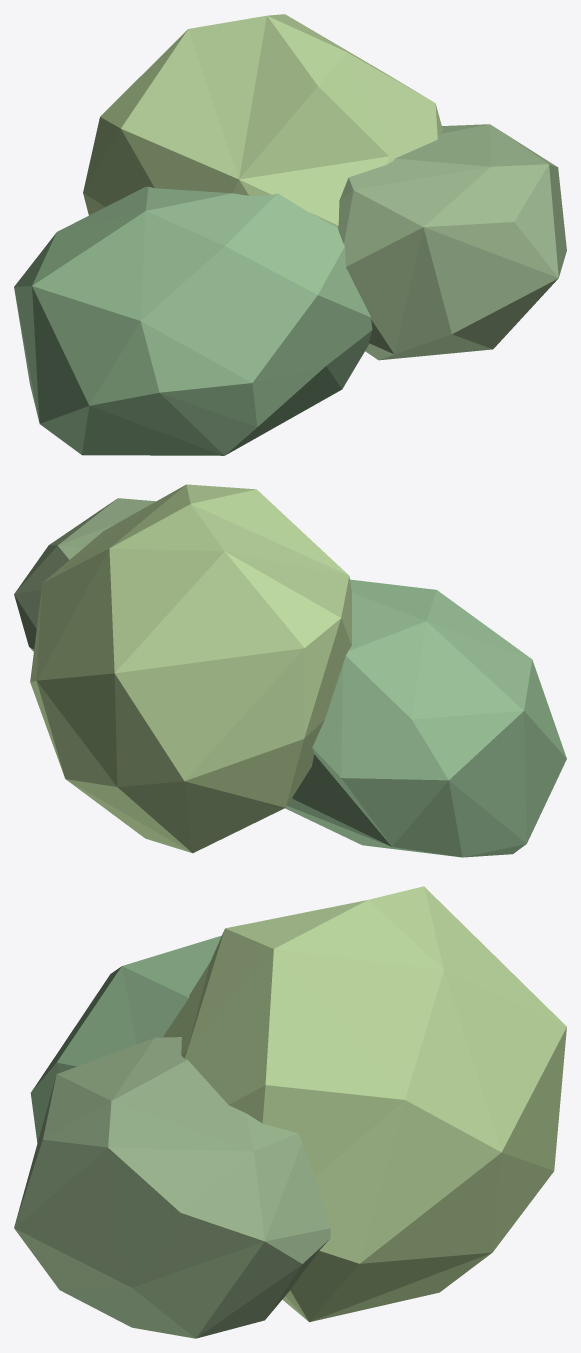
Rendered from bush2.fbx.
3 renders of one model, top to bottom at view 1: azimuth 30°, elevation 25°; view 2: azimuth 150°, elevation 25°; view 3: azimuth 270°, elevation 25°, orthographic. The views are drawn at different scales.
Parts seen in each view (by area): view 1: pCube6, pCube5, pCube4; view 2: pCube5, pCube6, pCube4; view 3: pCube5, pCube4, pCube6.
Part boxes in pixels (bbox=[...]): pCube6: bbox=[14, 186, 372, 455]; pCube5: bbox=[83, 14, 442, 227]; pCube4: bbox=[337, 124, 566, 360]; pCube5: bbox=[30, 484, 351, 853]; pCube6: bbox=[285, 579, 566, 857]; pCube4: bbox=[14, 498, 155, 651]; pCube5: bbox=[163, 886, 566, 1322]; pCube4: bbox=[14, 1037, 330, 1338]; pCube6: bbox=[30, 935, 221, 1142].
Bounding box in the file's own units: 4.02 × 2.65 × 3.15.
